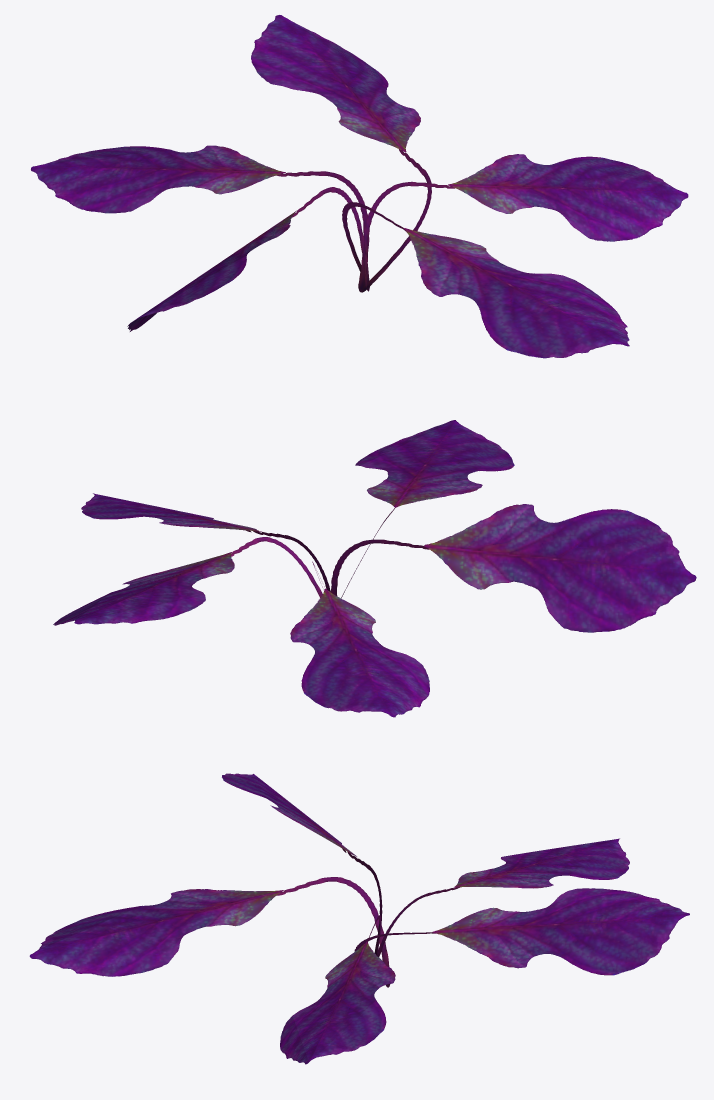
File: Row Root C3.fbx
The picture shows the model from 3 angles, top to bottom: view 1: azimuth 30°, elevation 25°; view 2: azimuth 150°, elevation 25°; view 3: azimuth 270°, elevation 25°; orthographic projection. The views are drawn at different scales.
Parts seen in each view (by area): view 1: Row Root C3; view 2: Row Root C3; view 3: Row Root C3.
Part boxes in pixels (left/top/right/bottom): Row Root C3: left=31, top=15, right=688, bottom=358; Row Root C3: left=53, top=420, right=696, bottom=717; Row Root C3: left=29, top=773, right=689, bottom=1064.
Bounding box in the file's own units: 232 × 51.04 × 250.
